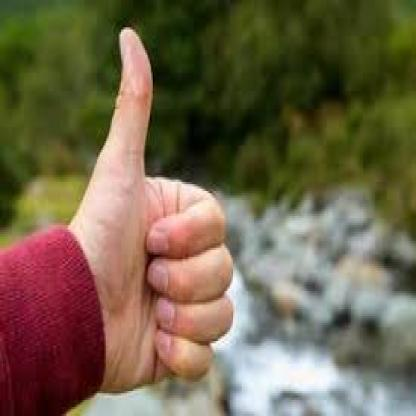thumb_up: (66, 23, 235, 394)
